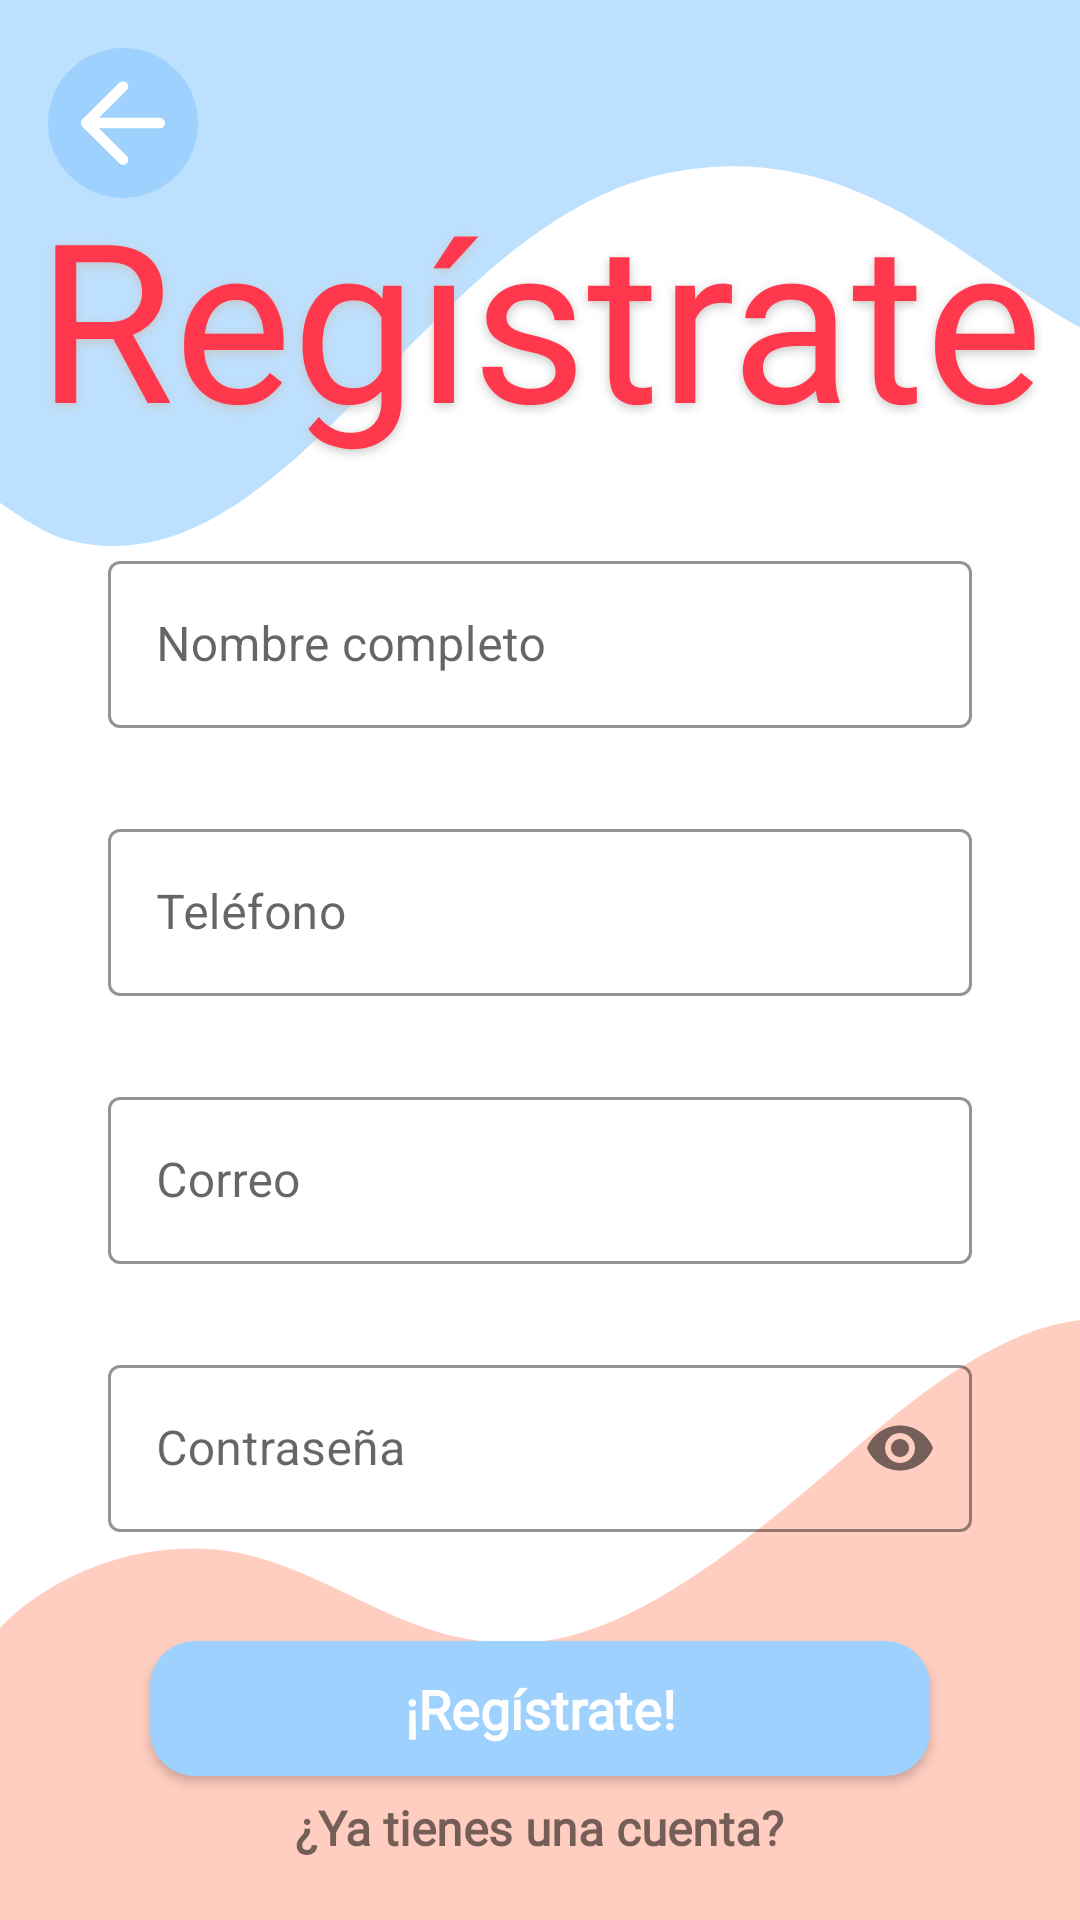

Icon click points for this 1080 x 1920 phone screenshot, format (x=x, y=y):
arrow back: (x=123, y=123)
